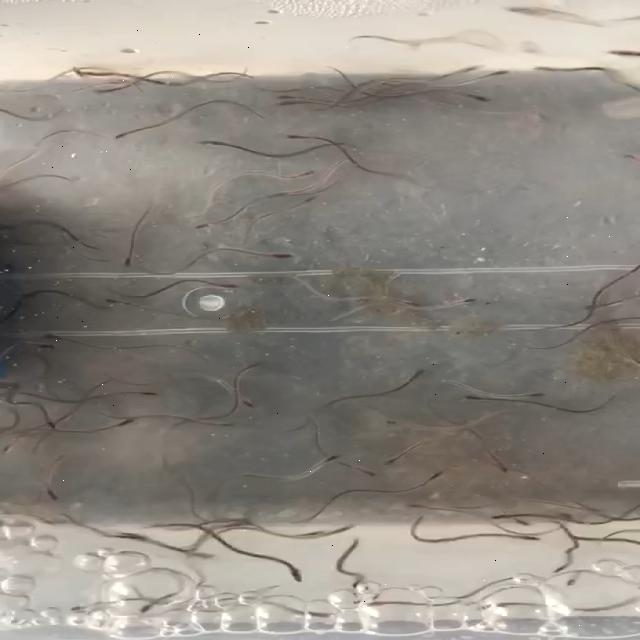active_glass_eel: (474, 497, 546, 522), (64, 62, 124, 90), (164, 210, 222, 236), (516, 376, 578, 400), (264, 558, 314, 584), (444, 384, 486, 413), (35, 477, 80, 503), (99, 123, 155, 143), (432, 60, 492, 78), (264, 238, 304, 264), (90, 253, 148, 270), (94, 416, 142, 436), (46, 447, 96, 466), (448, 284, 478, 314), (494, 531, 556, 545), (532, 57, 574, 77), (381, 365, 431, 381), (132, 388, 172, 408), (210, 276, 246, 298), (480, 63, 530, 78), (322, 445, 358, 465), (278, 128, 332, 141), (292, 191, 332, 208), (232, 394, 266, 414), (381, 294, 416, 313), (182, 138, 248, 148), (44, 323, 78, 342), (429, 462, 457, 483), (468, 88, 491, 111), (29, 344, 58, 362), (388, 416, 416, 434), (506, 456, 527, 479), (372, 458, 404, 472), (288, 165, 314, 182), (90, 298, 124, 310), (272, 100, 294, 116), (278, 84, 300, 100)
